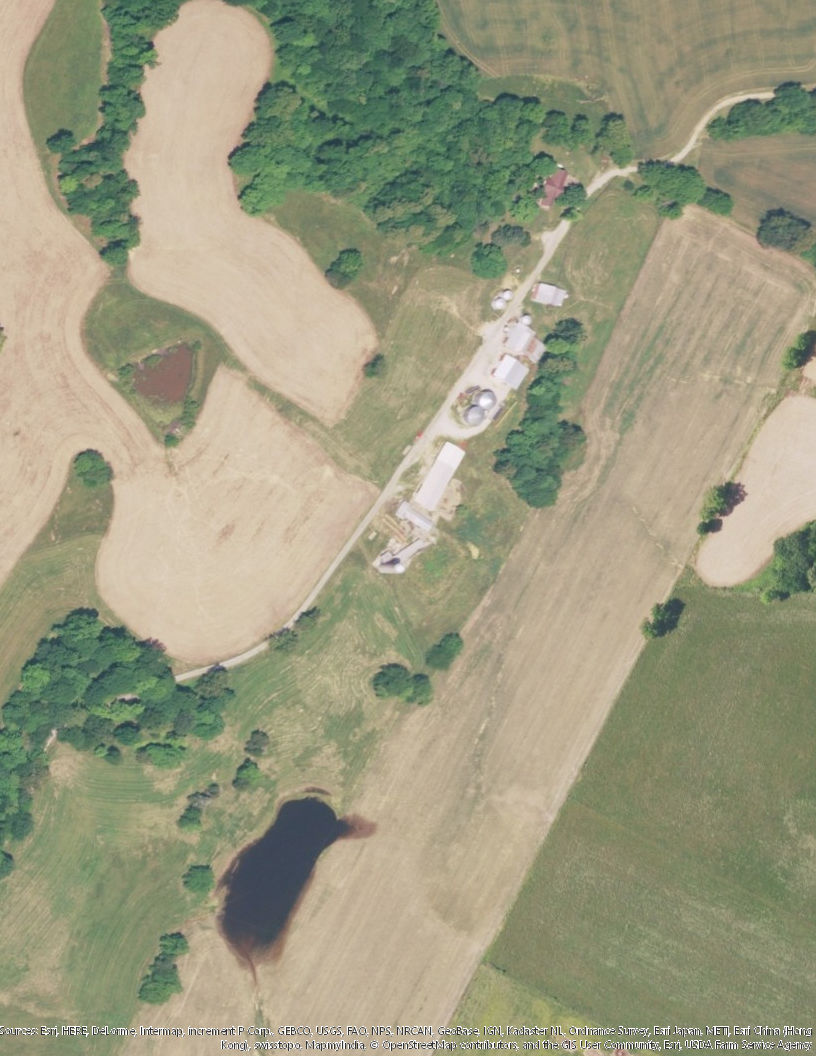cafo: (412, 436, 471, 511)
